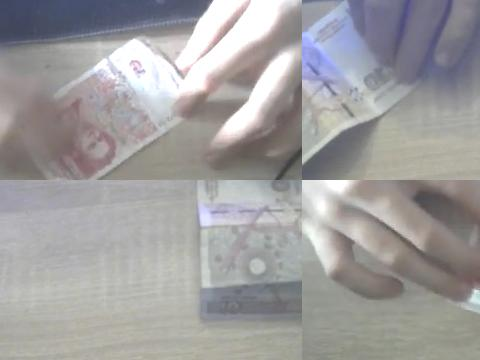10leva: (302, 2, 415, 175), (196, 180, 302, 319)
5leva: (15, 39, 184, 180)
